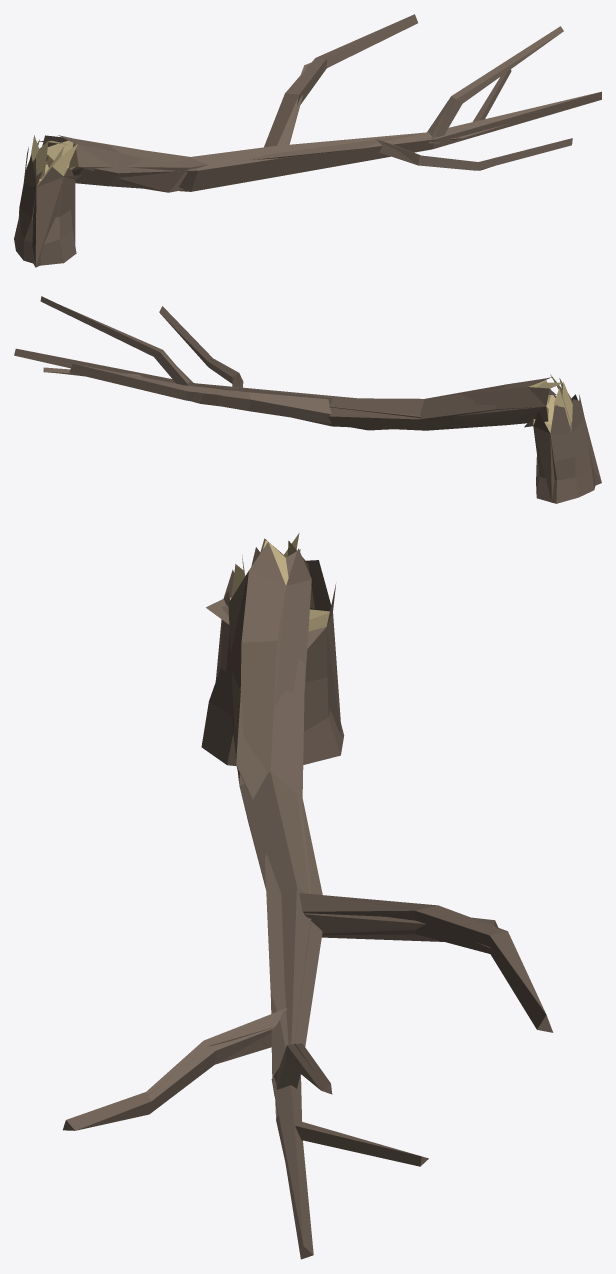
Rendered from B-Batang.fbx.
3 views of the same model, one above another, from view 1: azimuth 30°, elevation 25°; view 2: azimuth 150°, elevation 25°; view 3: azimuth 270°, elevation 25° (orthographic). The views are drawn at different scales.
Parts seen in each view (by area): view 1: FallenTree_1_2_LOD0; view 2: FallenTree_1_2_LOD0; view 3: FallenTree_1_2_LOD0.
Part boxes in pixels (bbox=[...]): FallenTree_1_2_LOD0: bbox=[14, 14, 601, 267]; FallenTree_1_2_LOD0: bbox=[14, 296, 601, 503]; FallenTree_1_2_LOD0: bbox=[63, 533, 553, 1259].
Bounding box in the file's own units: 717 × 131 × 269.
